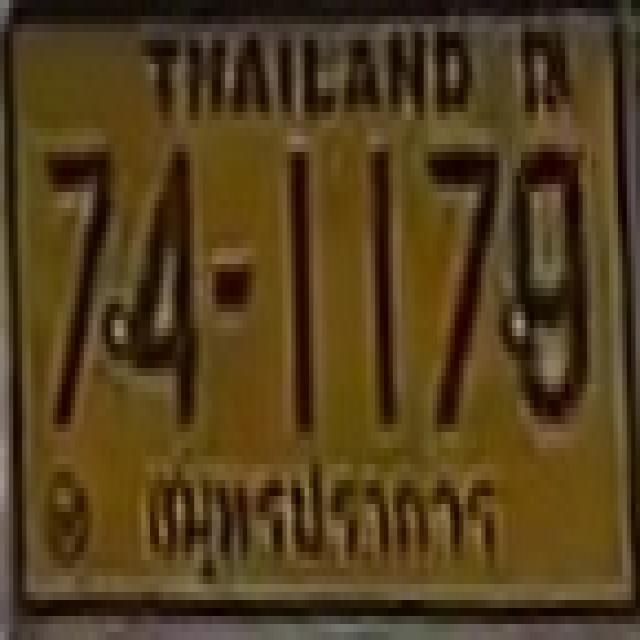1: (368, 144, 391, 424), (287, 152, 309, 424)
4: (124, 140, 194, 420)
7: (424, 140, 494, 420), (44, 144, 110, 424)
9: (501, 136, 585, 416)
SPK: (133, 441, 511, 585)
